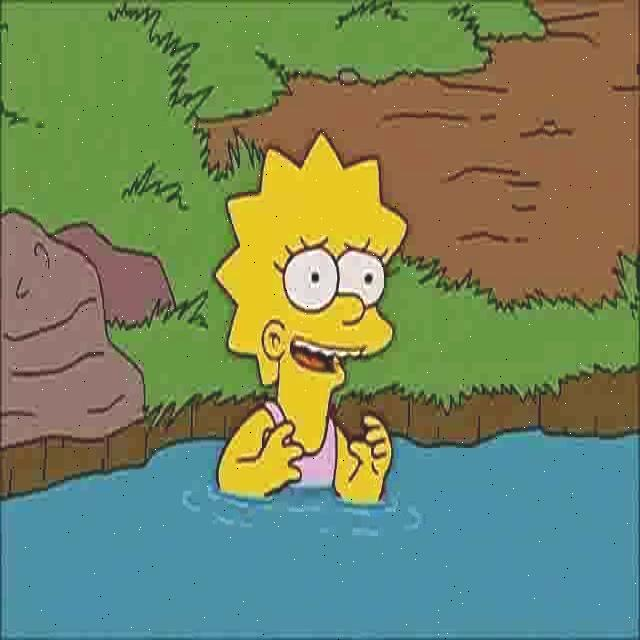Lisa Simpson: (212, 132, 412, 418)
